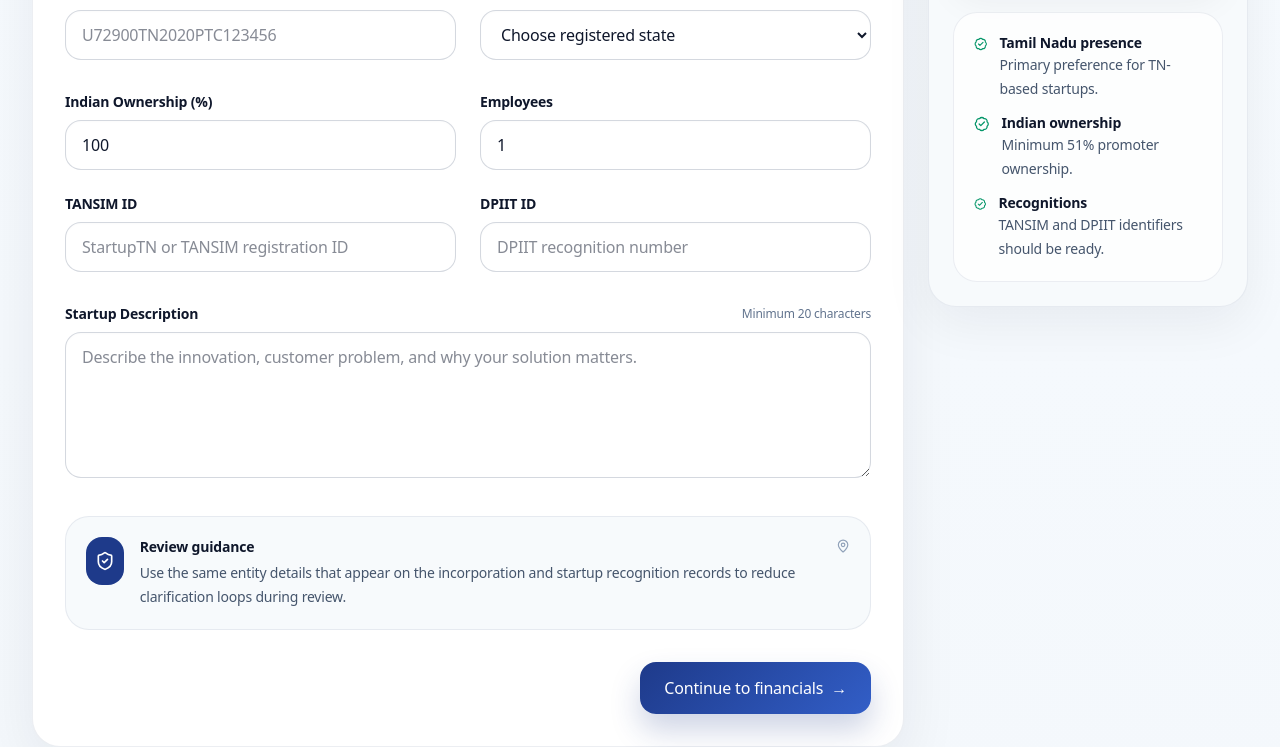
Test: Step1EntityEligibility › shows validation errors before allowing progression
The width and height of the screenshot is (1280, 747).
(page scrolled)
What coordinates should you click on to do the following:
click the button "Continue to financials →"
I would click on:
 (756, 688)
Its box is [640,662,871,714].
(page scrolled)
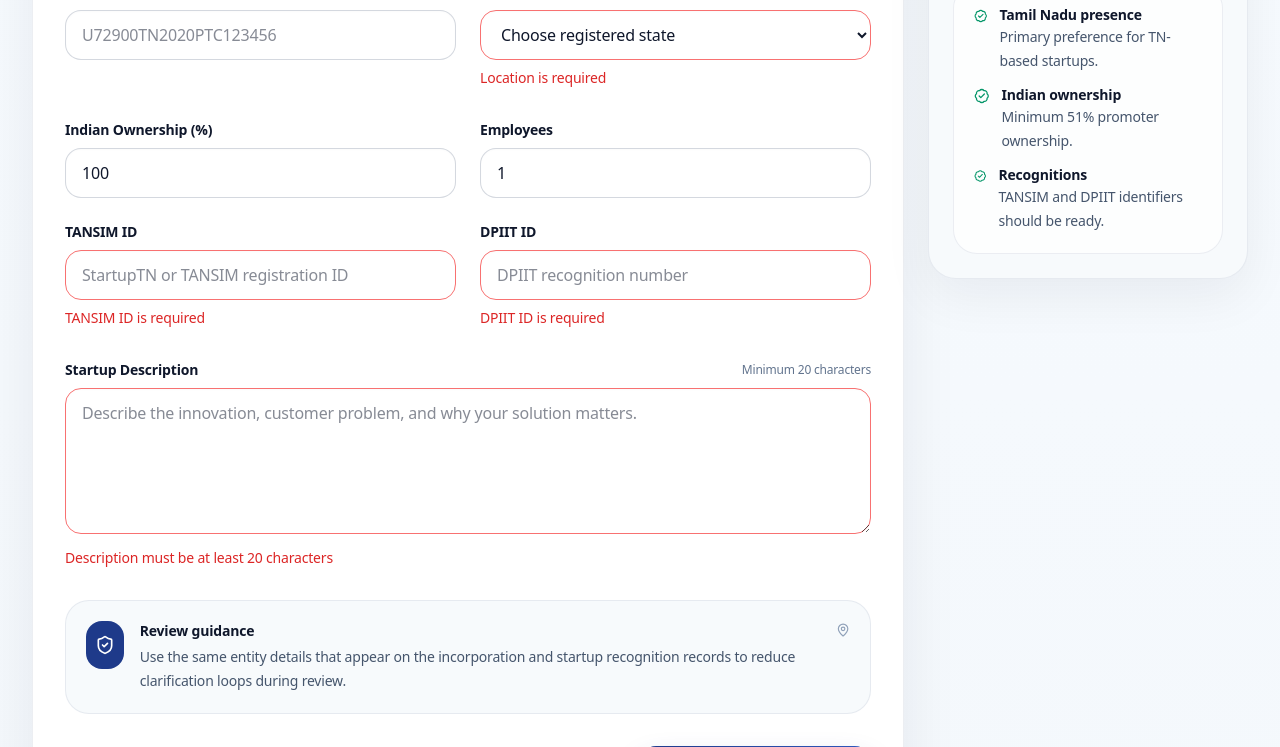
Expected: the text "Location is required" is shown, [480,68,606,87]
Expected: the text "TANSIM ID is required" is shown, [65,308,205,327]
Expected: the text "DPIIT ID is required" is shown, [480,308,605,327]
